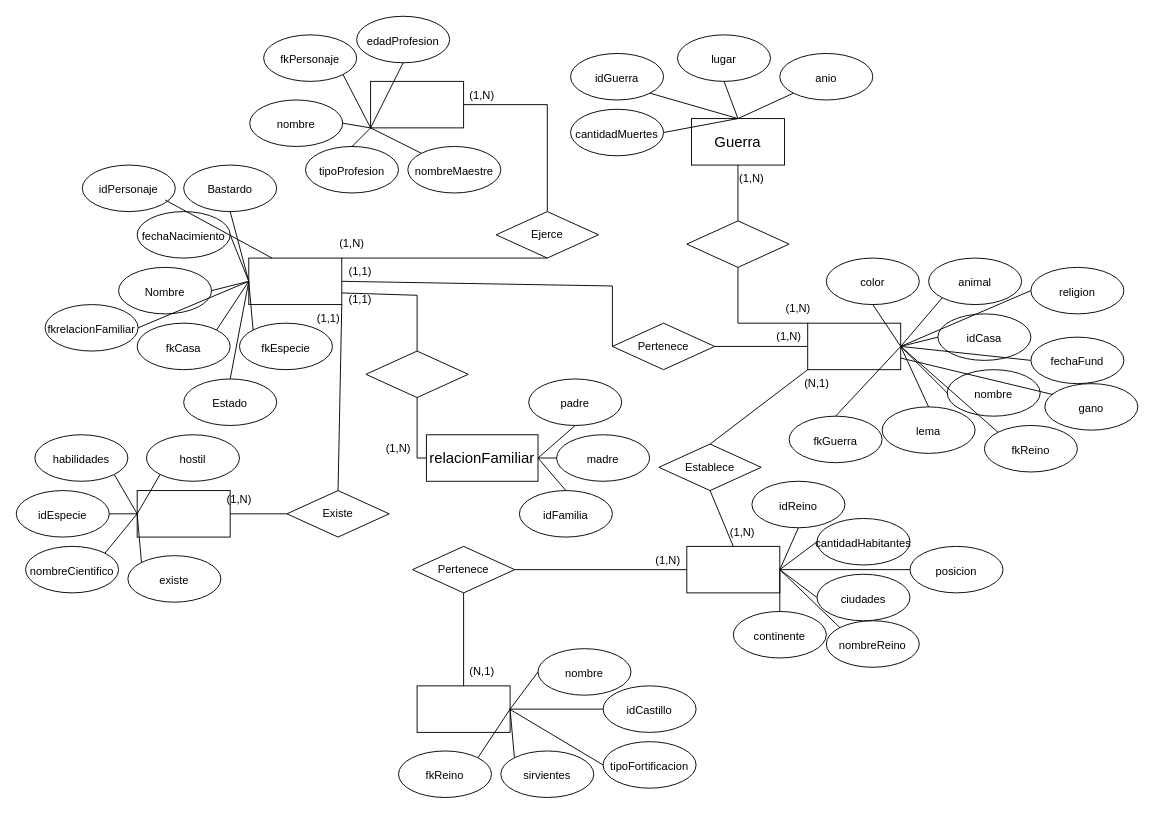
Some shapes in this 1154 by 814 pixel diagram are drawn without their labels. Here are the shapes that lost their labels. From the top down, the centre of each, then its label:
At (x=417, y=104): "Profesion".
At (x=737, y=243): "Participa".
At (x=295, y=281): "Personaje".
At (x=854, y=346): "Casa".
At (x=416, y=374): "Tiene".
At (x=183, y=513): "Especie".
At (x=733, y=569): "Reino".
At (x=463, y=708): "Castillo".
